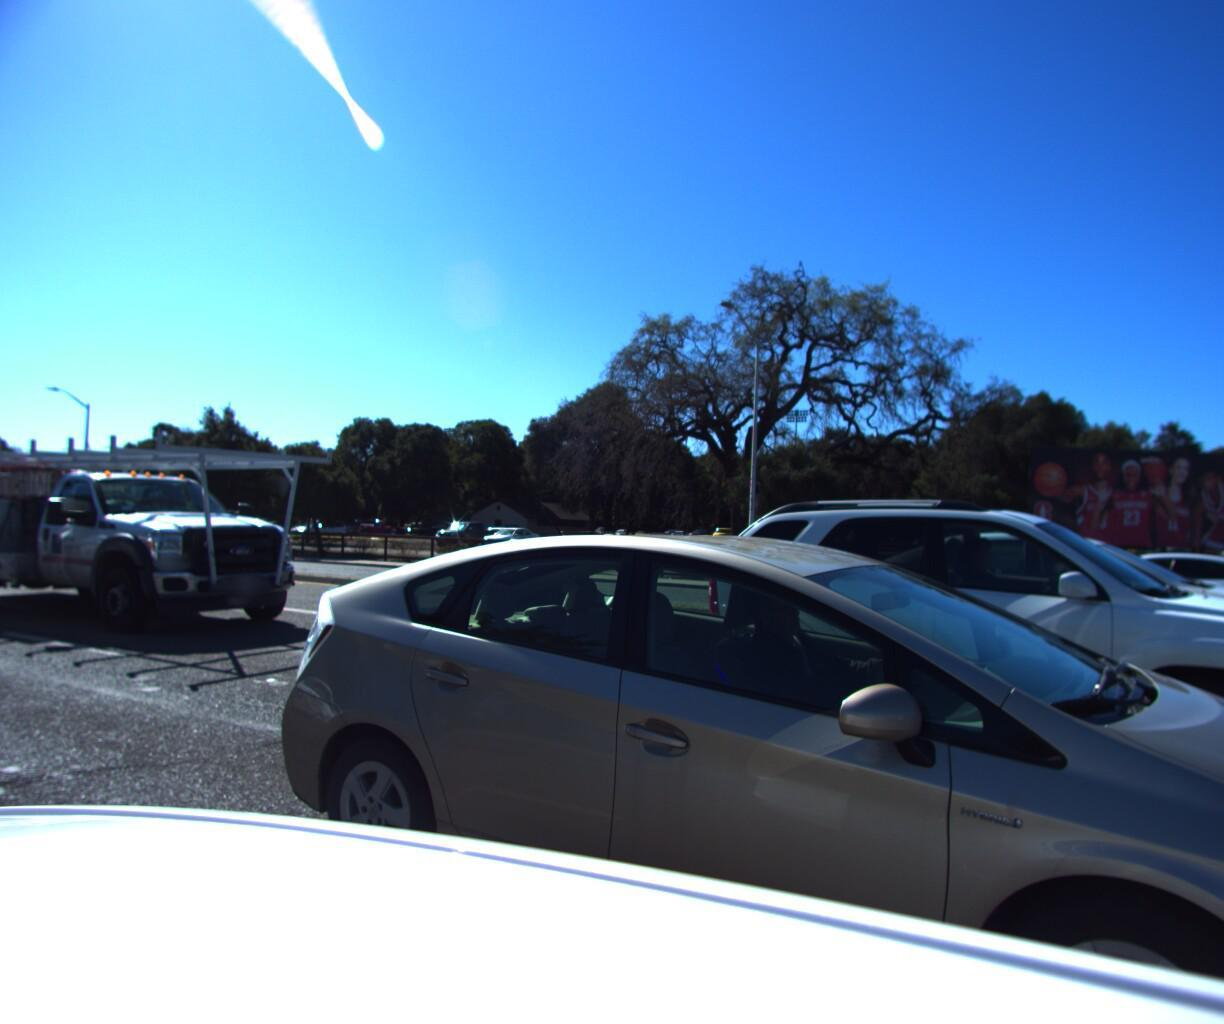car: (235, 504, 1224, 1024), (674, 483, 1224, 825), (807, 519, 1224, 713), (1020, 540, 1224, 642)
other_vehicle: (0, 409, 339, 655)
